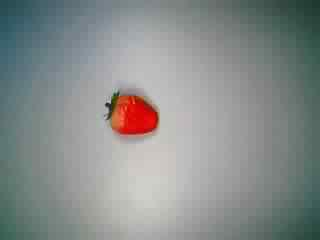strawberry: (95, 84, 161, 146)
